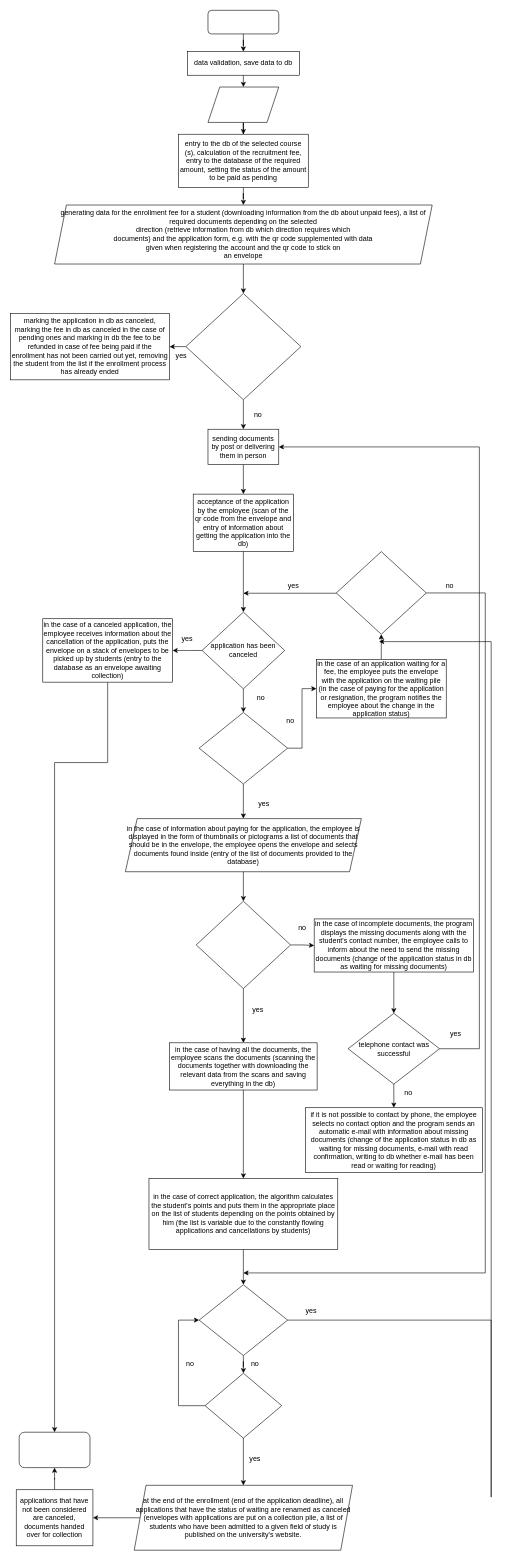
The diagram is 506 pixels wide and 1561 high, and some of its shapes have lost their labels. The shapes that lost their labels are listed below. From the top down, each one's centre as x and y in pixels, then its label:
pixel 243 22: student register account
pixel 243 104: choosing a field of study
pixel 243 346: student withdraws his application
pixel 381 592: checking if any changes to the application status occured
pixel 243 748: application has been paid for
pixel 243 945: application contain full set of documents
pixel 243 1320: iteration period has ended
pixel 243 1405: recruitment has ended
pixel 54 1450: the documents are waiting for collection by the student
